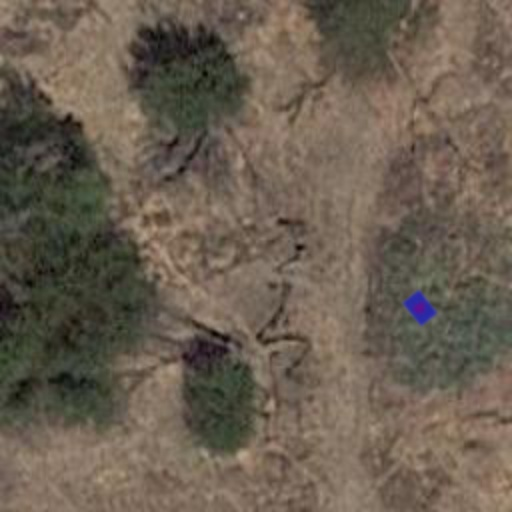rectangle: (398, 286, 442, 330)
